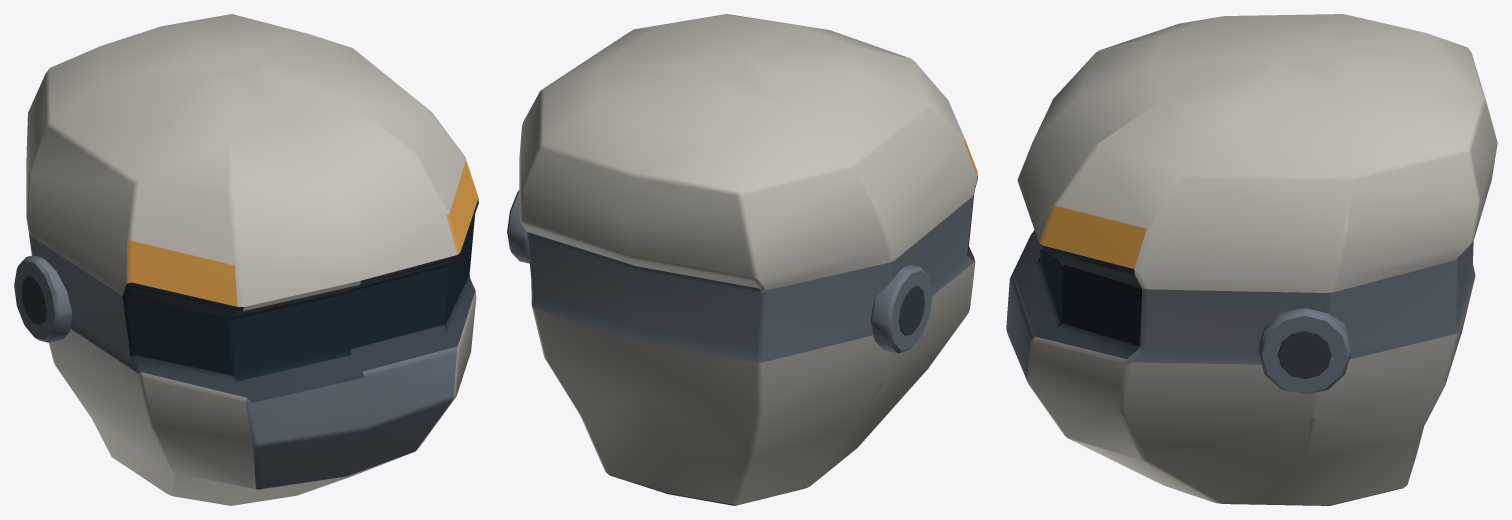
The model's file is helmet_heavy.glb.
3 renders of one model, left to right at view 1: azimuth 30°, elevation 25°; view 2: azimuth 150°, elevation 25°; view 3: azimuth 270°, elevation 25°, orthographic. The views are drawn at different scales.
Visible parts, largest first — view 1: helmet_heavy; view 2: helmet_heavy; view 3: helmet_heavy.
Boxes of the visible parts, x1,y1,x2,y2 form: helmet_heavy: (14,14,478,505); helmet_heavy: (507,14,977,505); helmet_heavy: (1006,14,1497,505).
Size of the model in its own units: 1.04 by 1 by 1.11.
